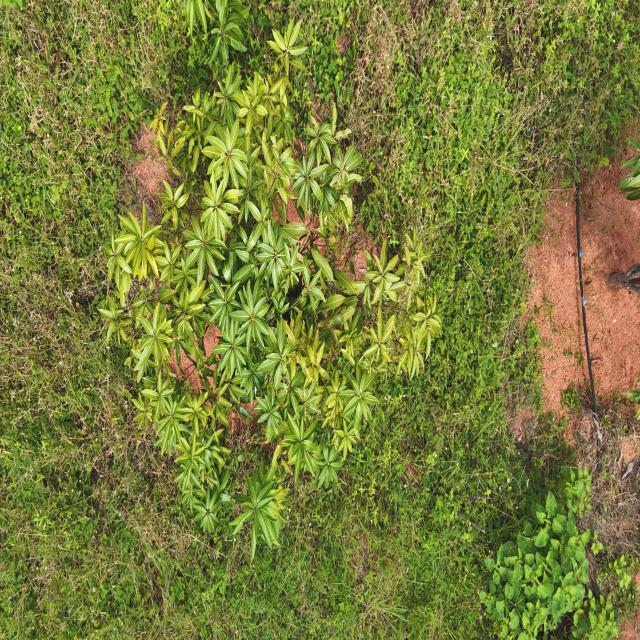mangoTree: (95, 0, 445, 575)
notMangoTree: (478, 462, 618, 640)
